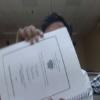notebook: (0, 26, 93, 99)
